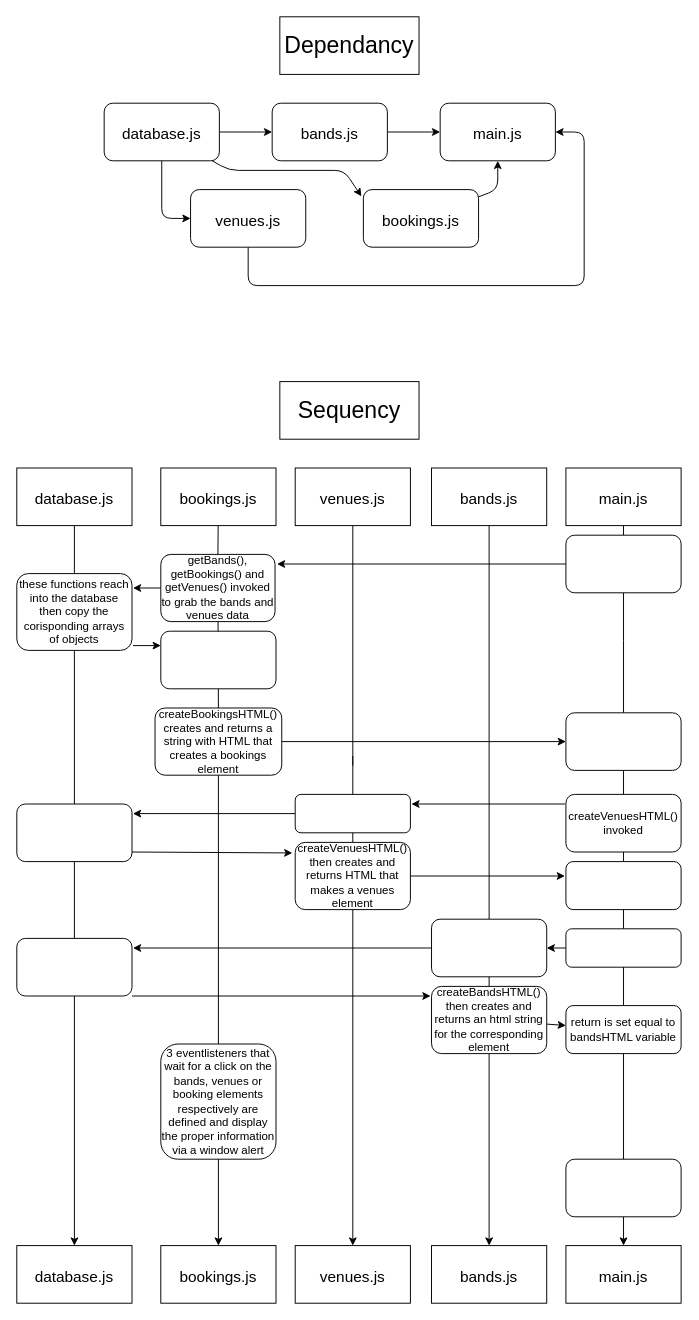
This 699x1320 diagram has some shape labels left out. The shapes that lost their labels are listed below. From the top down, each one's centre as x and y in pixels, then its label:
the point at 623,563: createBookingsHTML() invoked
the point at 218,659: copies of the bands, venues and bookings arrays are returned and saved
the point at 623,741: return is set equal to bookingsHTML variable
the point at 74,832: getVenues() creates and returns a copy of the venues array in the database
the point at 352,813: getVenues() is invoked
the point at 623,885: return is set equal to venuesHTML variable
the point at 74,966: copies and returns the bands array
the point at 489,947: getBands() invoked to grab necessary data
the point at 623,947: createBandsHTML() invoked
the point at 623,1187: the HTML strings are then added to the index.html using quereyselector
